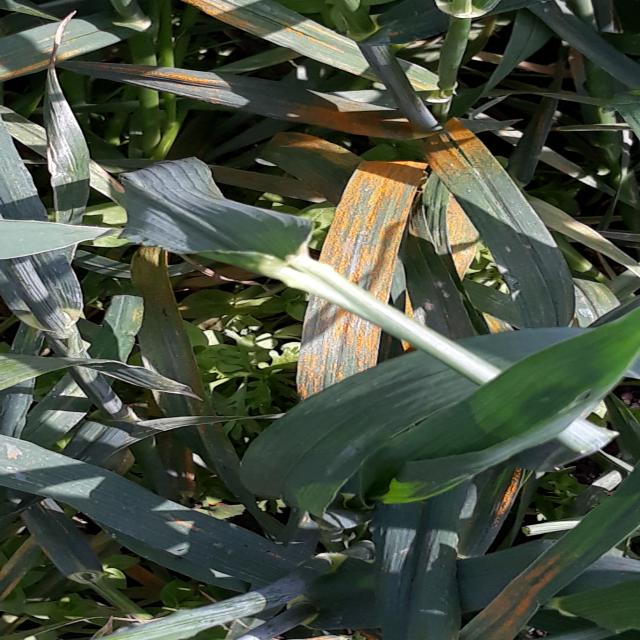yellow_rust: (265, 139, 427, 411), (452, 525, 614, 640), (122, 493, 308, 576), (262, 91, 441, 170), (389, 115, 543, 206), (171, 0, 364, 68), (99, 244, 189, 376), (0, 15, 130, 94), (150, 366, 254, 462), (91, 56, 248, 116), (526, 200, 640, 278), (29, 123, 125, 213), (458, 462, 576, 529), (469, 36, 591, 99), (134, 422, 222, 502), (329, 48, 456, 102), (0, 520, 65, 615), (433, 201, 496, 291), (164, 254, 289, 298), (102, 547, 176, 605), (340, 625, 411, 640)
